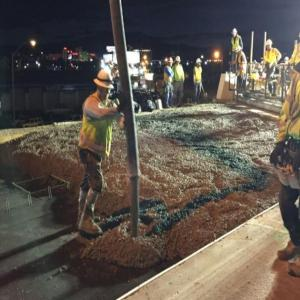white: (95, 71, 113, 101), (266, 40, 274, 50), (232, 28, 239, 38), (168, 58, 174, 68), (236, 46, 242, 55), (197, 59, 203, 67), (177, 56, 182, 65)
